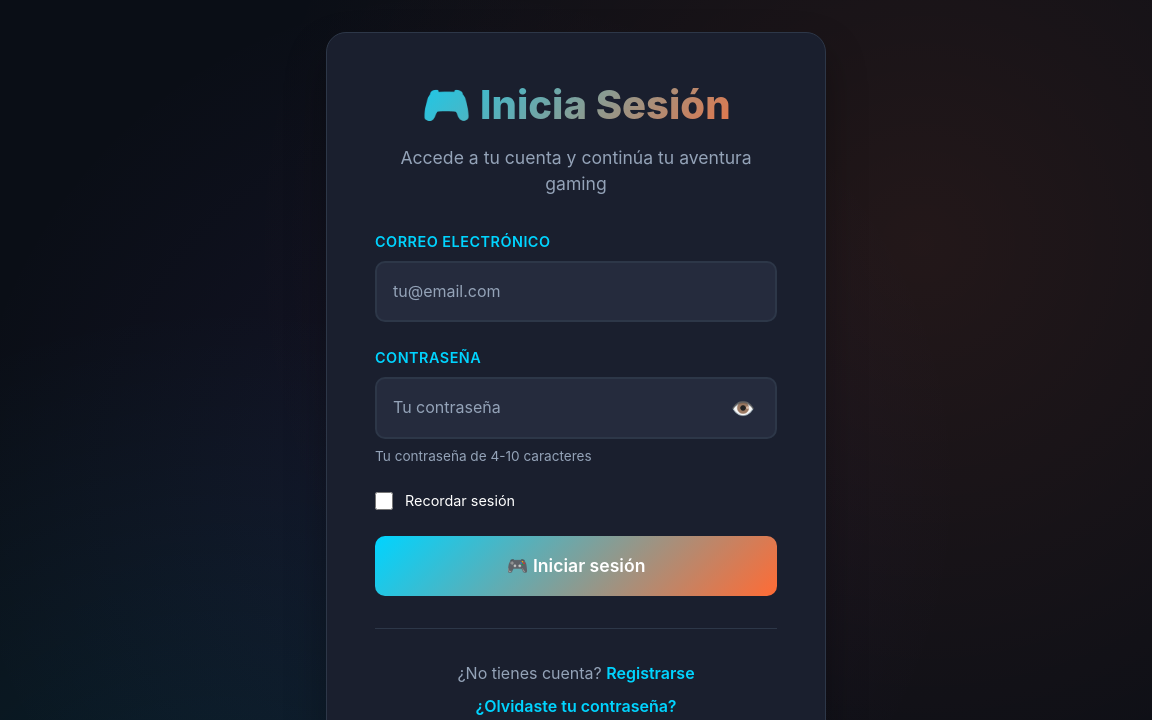
Test: Login › proceso de login › debe mostrar error con credenciales incorrectas
Type "wrong@email.com" into the field labelled "Correo electrónico". click: (576, 292)
box: left=375, top=261, right=777, bottom=322
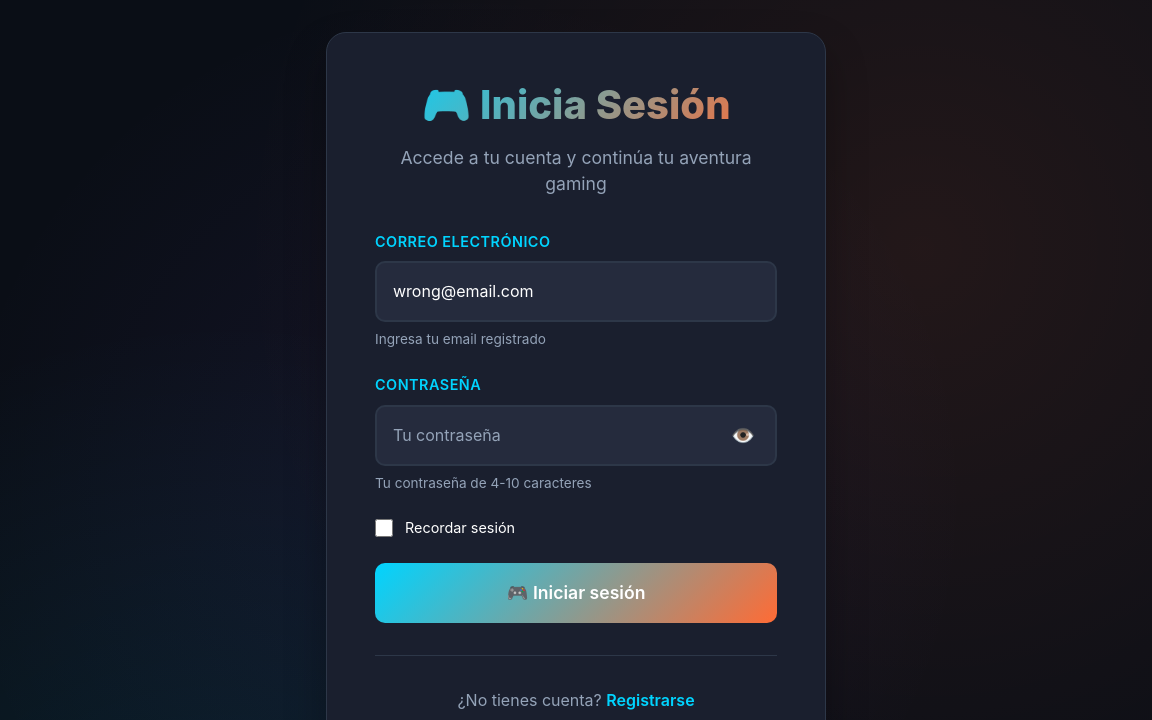
Type "wrongpass" into the password field with placeholder "Tu contraseña". click: (576, 435)
box: left=375, top=404, right=777, bottom=466
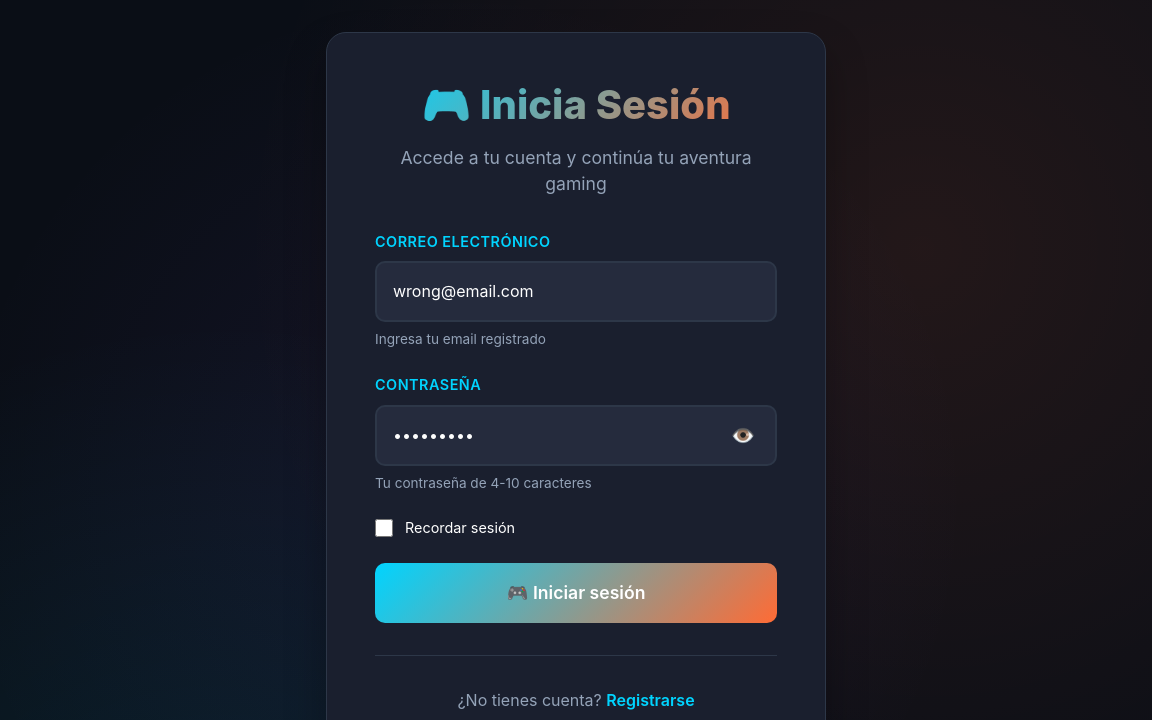
Click the button "🎮 Iniciar sesión". click: (576, 593)
box: left=375, top=563, right=777, bottom=623
Wait 1500 ms
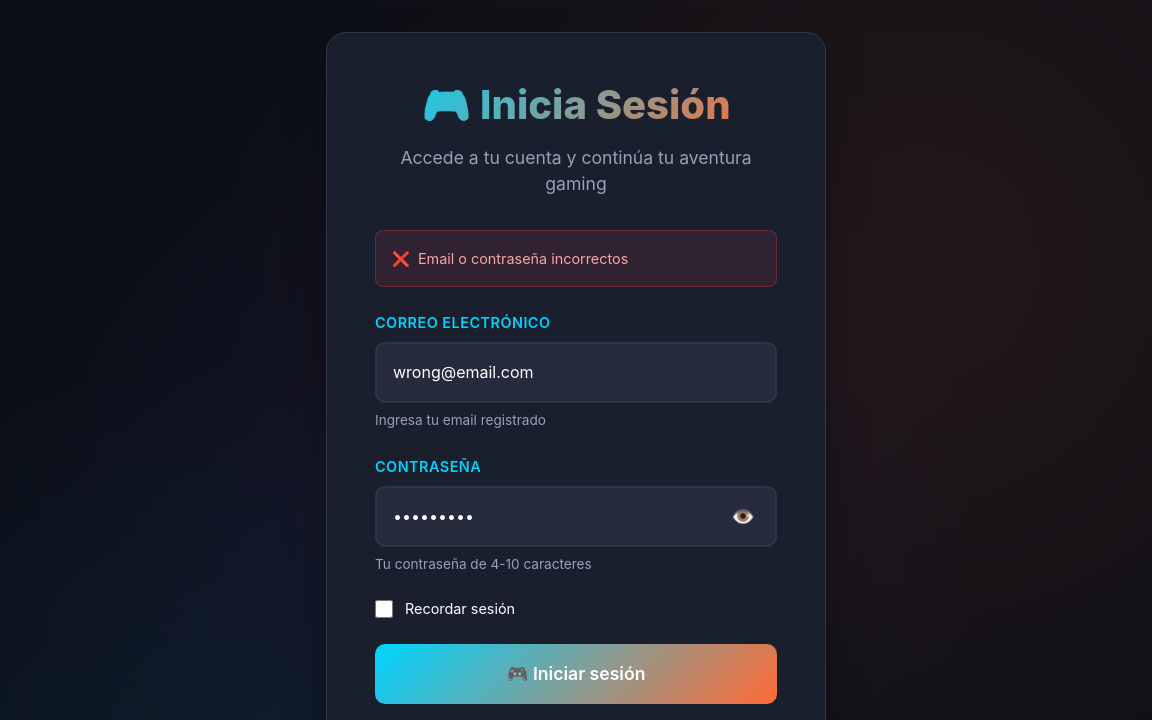
Result: the text "❌ Email o contraseña incorrectos" is shown at left=375, top=230, right=777, bottom=287
